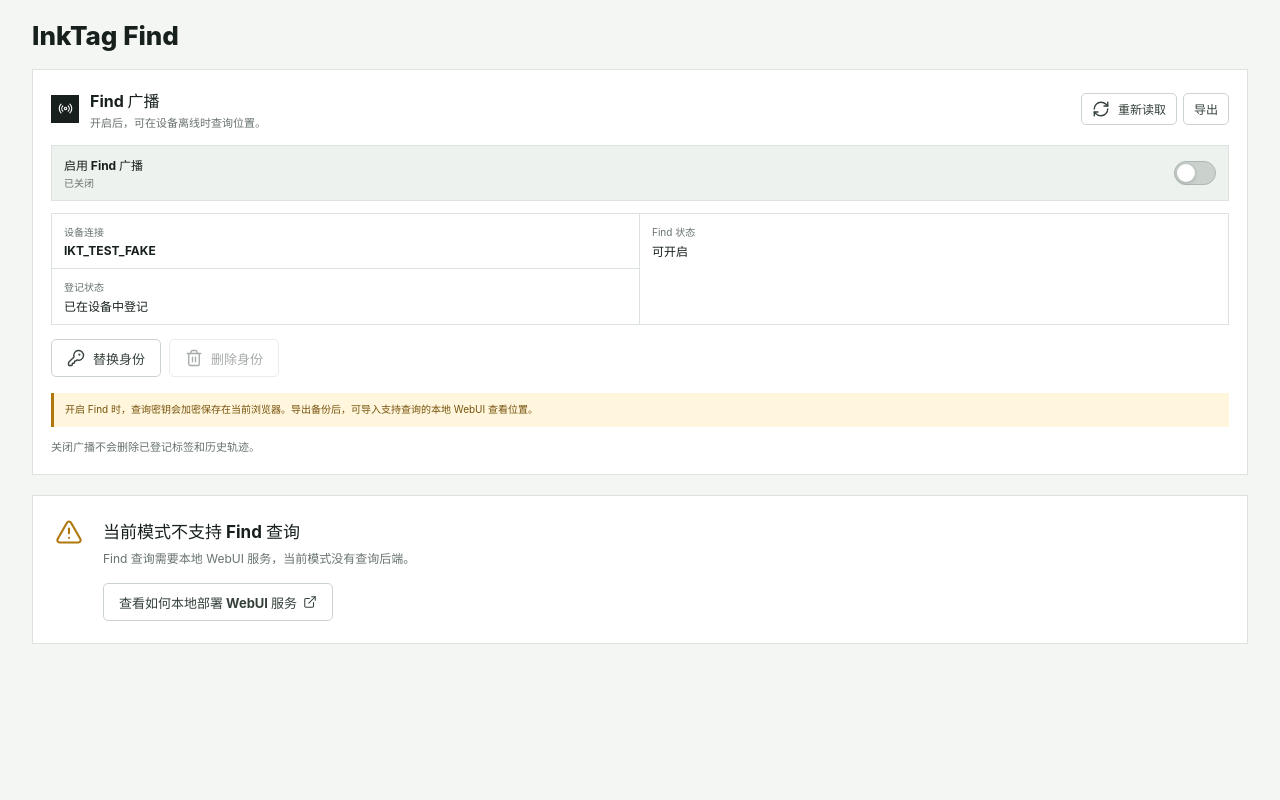
Test: keeps replacement visible and restores old material in static
Click the button "替换身份" at (106,358), box [51,339,161,377]
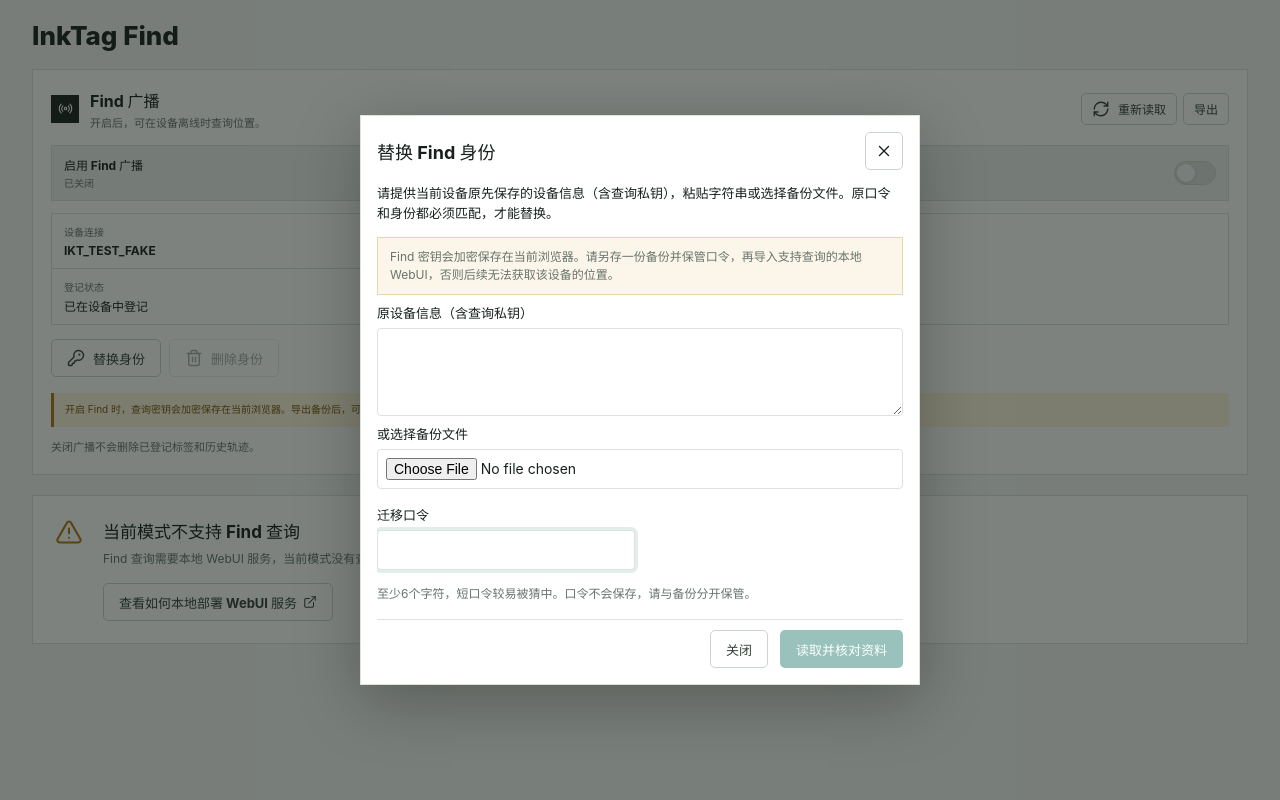
Now the dialog shows "原先保存的设备信息", box [377,184,890,221]
